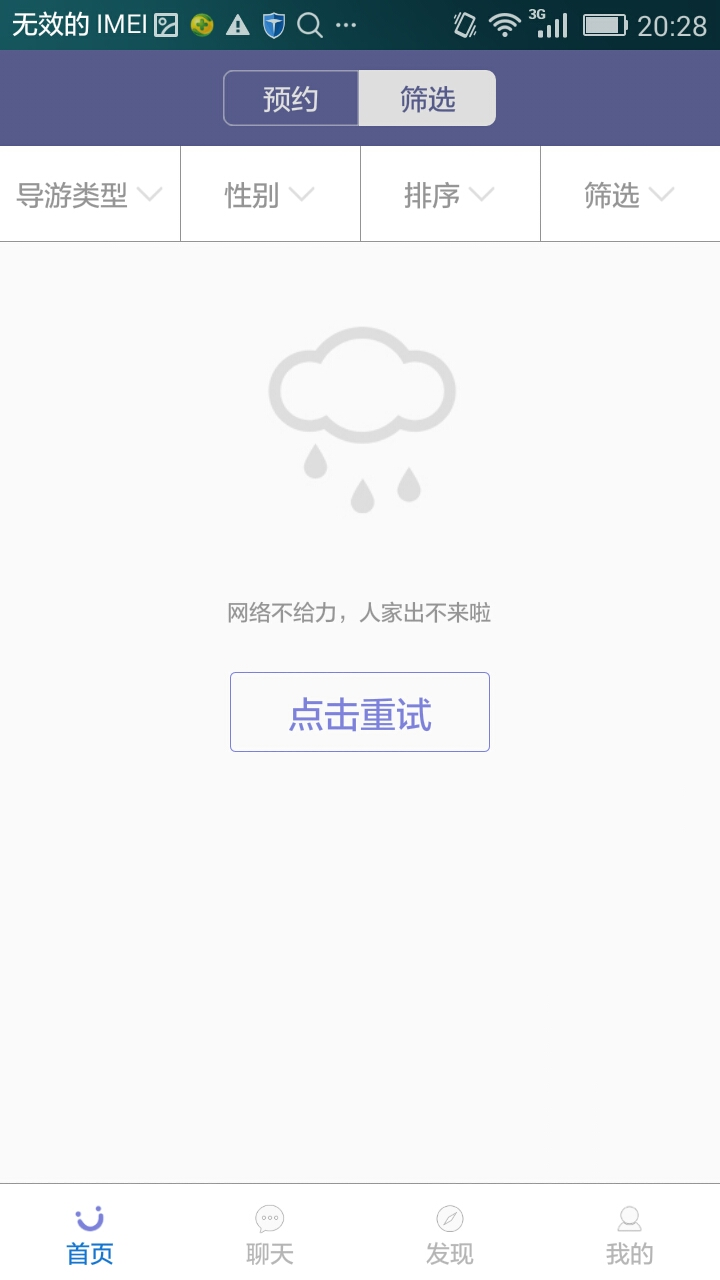button: (220, 660, 498, 765)
